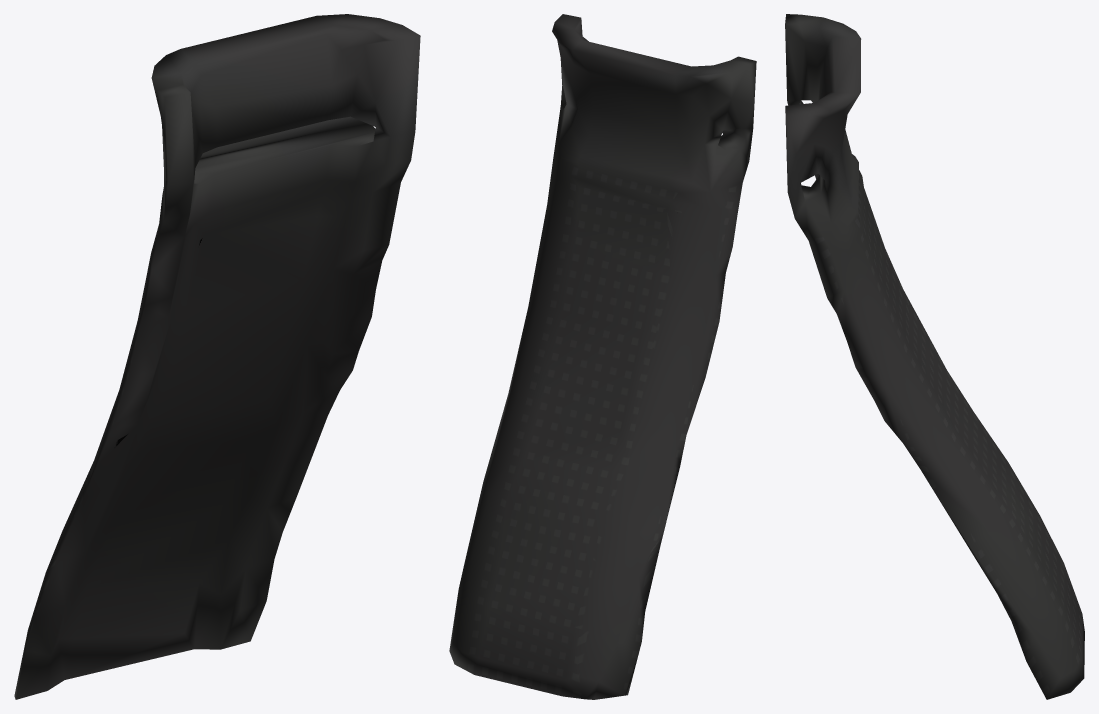
Rendered from SM_G17_Backstrap_LOD2.fbx.
The picture shows the model from 3 angles, left to right: view 1: azimuth 30°, elevation 25°; view 2: azimuth 150°, elevation 25°; view 3: azimuth 270°, elevation 25°; orthographic projection. The views are drawn at different scales.
Parts seen in each view (by area): view 1: SM_G17_Backstrap_LOD2; view 2: SM_G17_Backstrap_LOD2; view 3: SM_G17_Backstrap_LOD2.
Part boxes in pixels (box(x1,y1,x2,y2)): SM_G17_Backstrap_LOD2: box(14, 14, 420, 699); SM_G17_Backstrap_LOD2: box(449, 14, 756, 699); SM_G17_Backstrap_LOD2: box(785, 14, 1084, 699).
Bounding box in the file's own units: 2.91 × 3.63 × 7.88.
